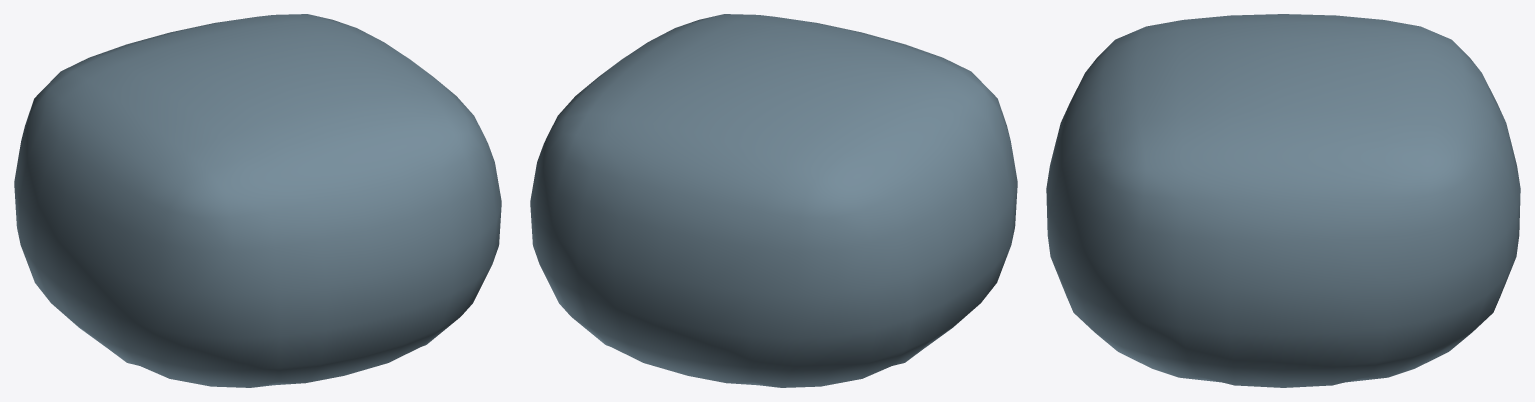
Rendered from Pouf1_9.fbx.
3 renders of one model, left to right at view 1: azimuth 30°, elevation 25°; view 2: azimuth 150°, elevation 25°; view 3: azimuth 270°, elevation 25°, orthographic. The views are drawn at different scales.
Visible parts, largest first — view 1: pCube2901; view 2: pCube2901; view 3: pCube2901.
Part boxes in pixels (x1=…): pCube2901: x1=14, y1=14, x2=501, y2=387; pCube2901: x1=530, y1=14, x2=1017, y2=387; pCube2901: x1=1046, y1=14, x2=1520, y2=387.
Size of the model in its own units: 34.57 by 23.24 by 34.56.
